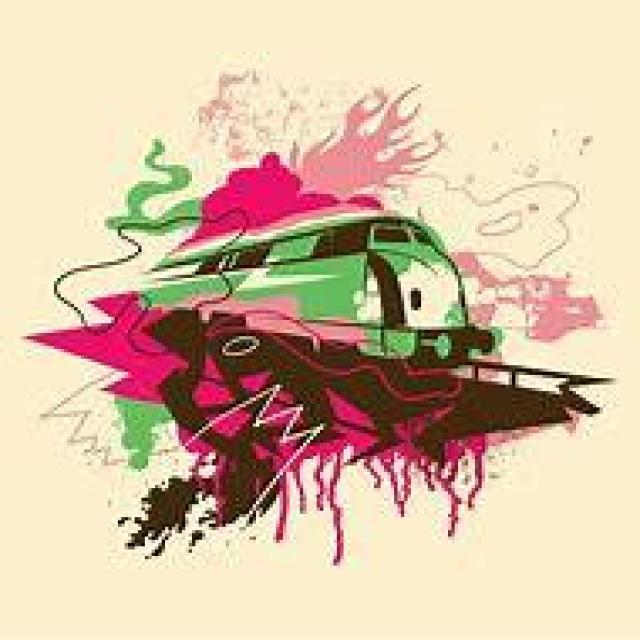nonspitting: (23, 64, 616, 566)
